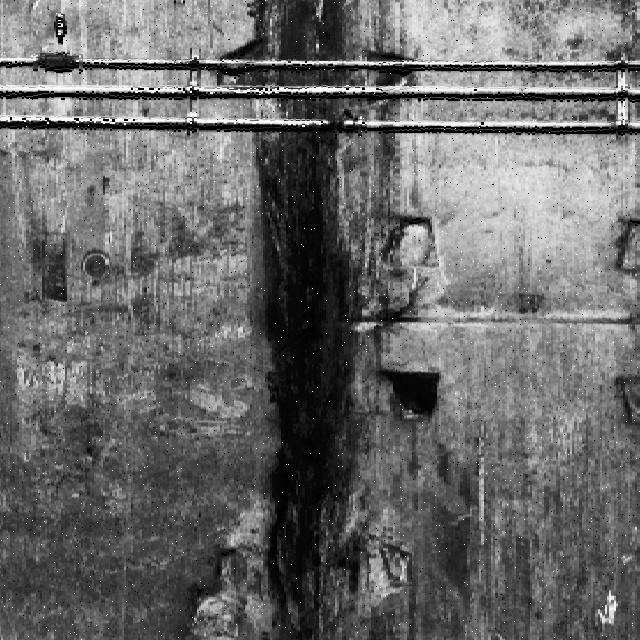leakage: (216, 2, 373, 640)
